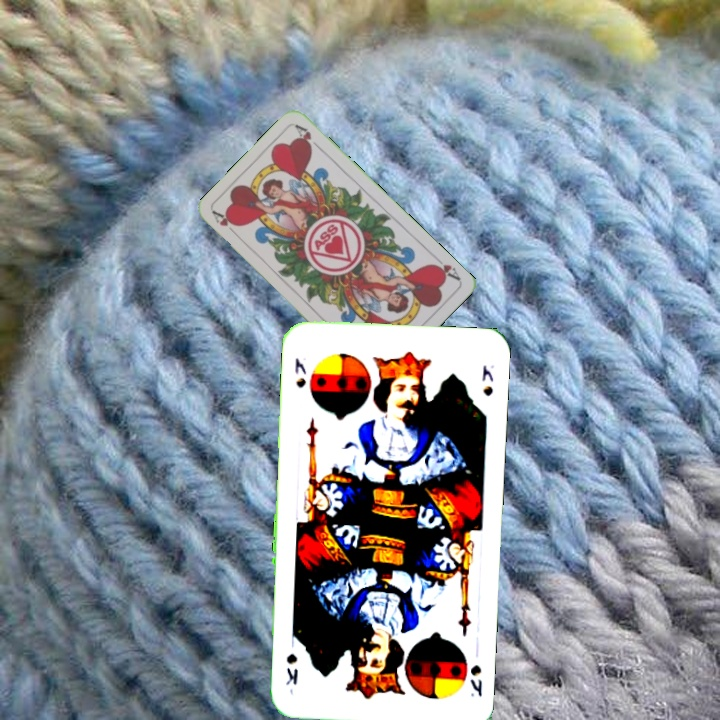HA: (427, 251, 463, 283), (209, 207, 242, 240)
SK: (466, 661, 485, 700), (291, 354, 309, 390)
